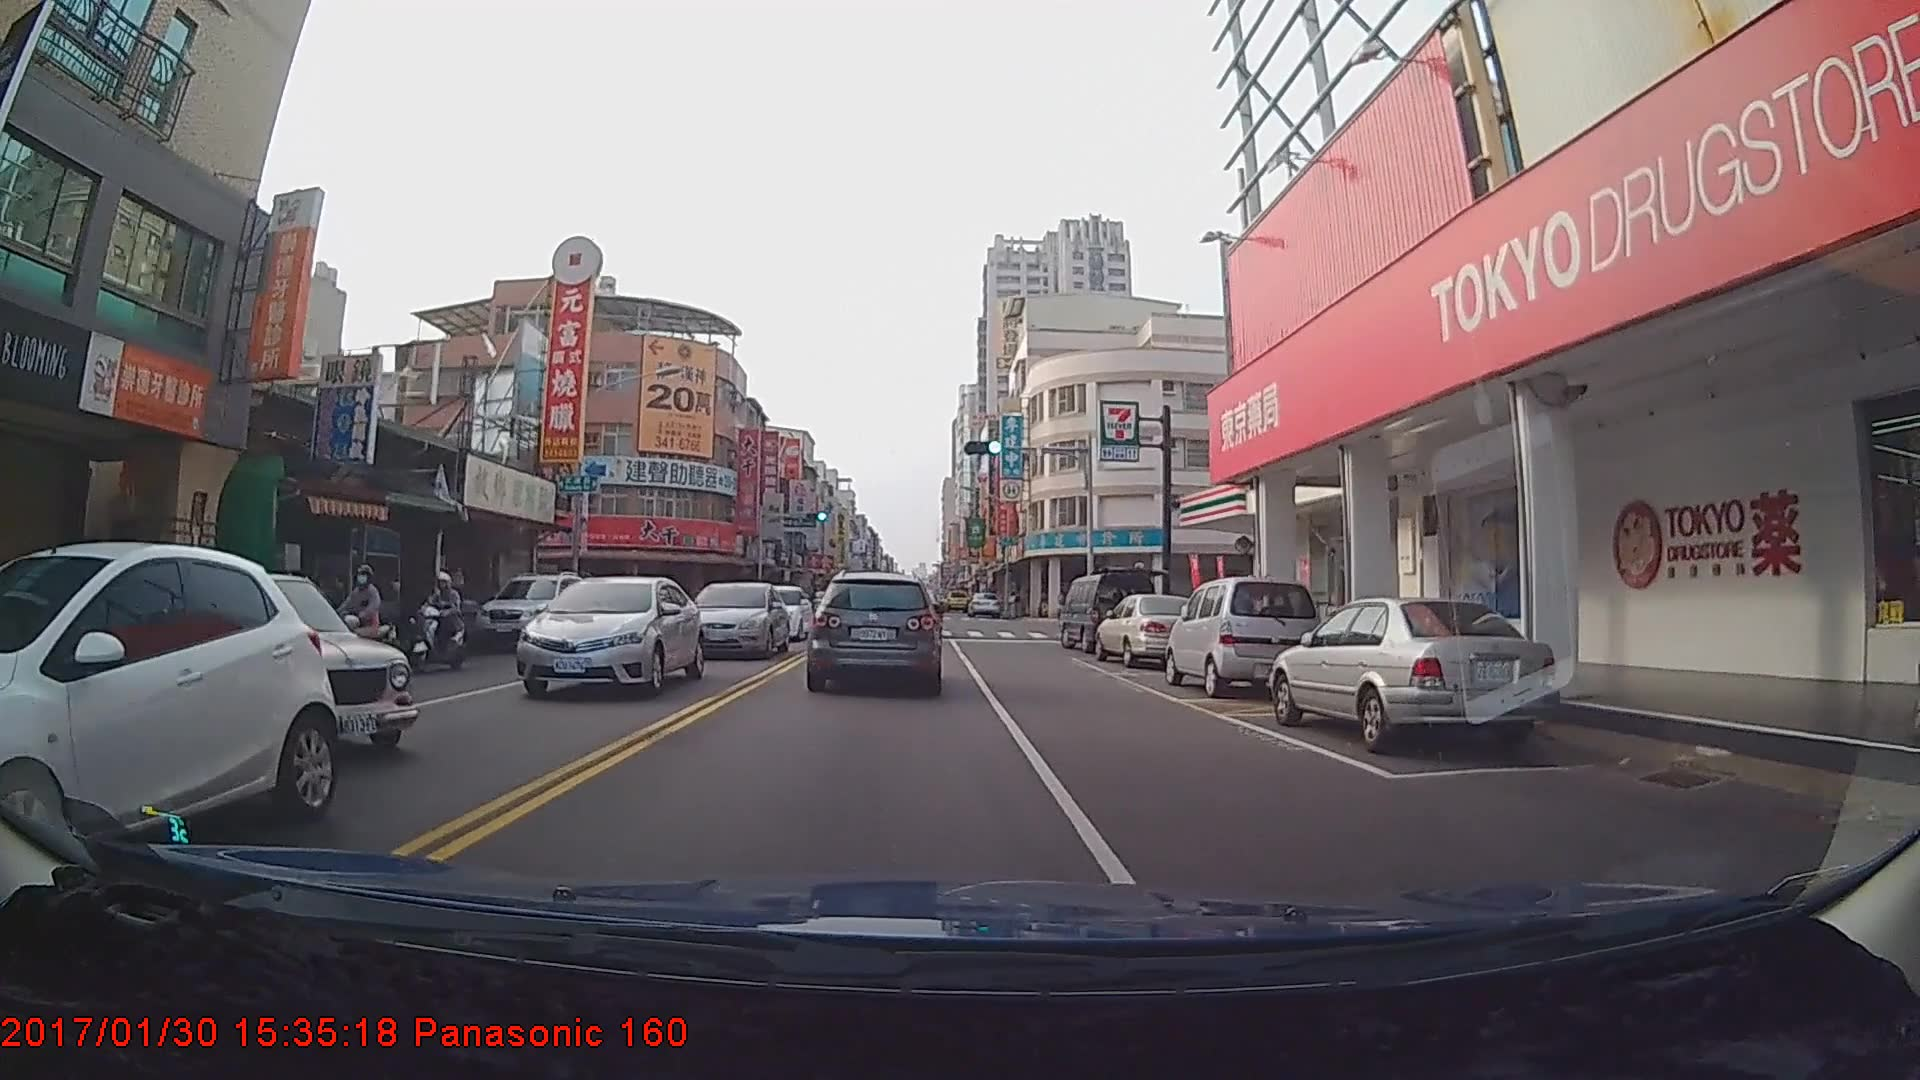rider: (409, 571, 471, 667)
vehicle: (0, 540, 336, 875), (78, 571, 412, 757), (1267, 596, 1557, 754), (504, 578, 692, 706), (1165, 580, 1325, 703), (811, 571, 940, 692), (473, 573, 590, 656), (685, 578, 787, 660), (1097, 593, 1207, 666), (1059, 574, 1157, 654), (743, 583, 809, 642), (965, 590, 1002, 616)
